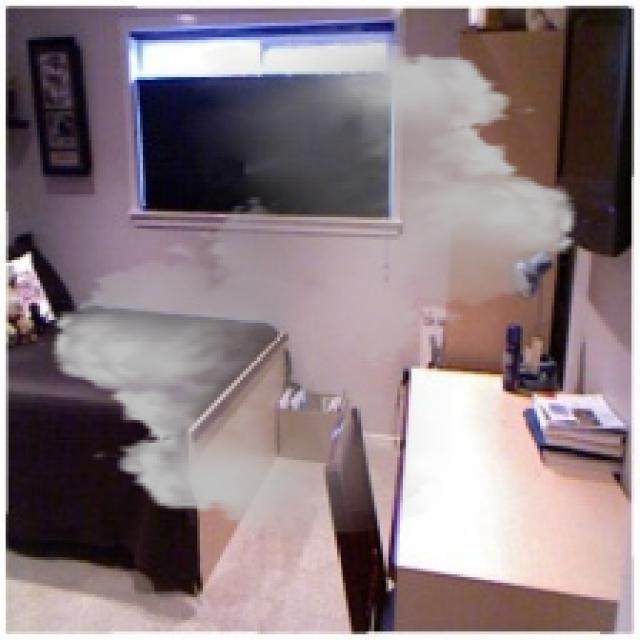Smoke: (34, 26, 594, 540)
